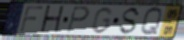F: (18, 5, 45, 34)
G: (90, 6, 114, 35)
H: (38, 5, 66, 36)
P: (66, 6, 91, 35)
Q: (139, 6, 164, 37)
S: (118, 6, 142, 36)
